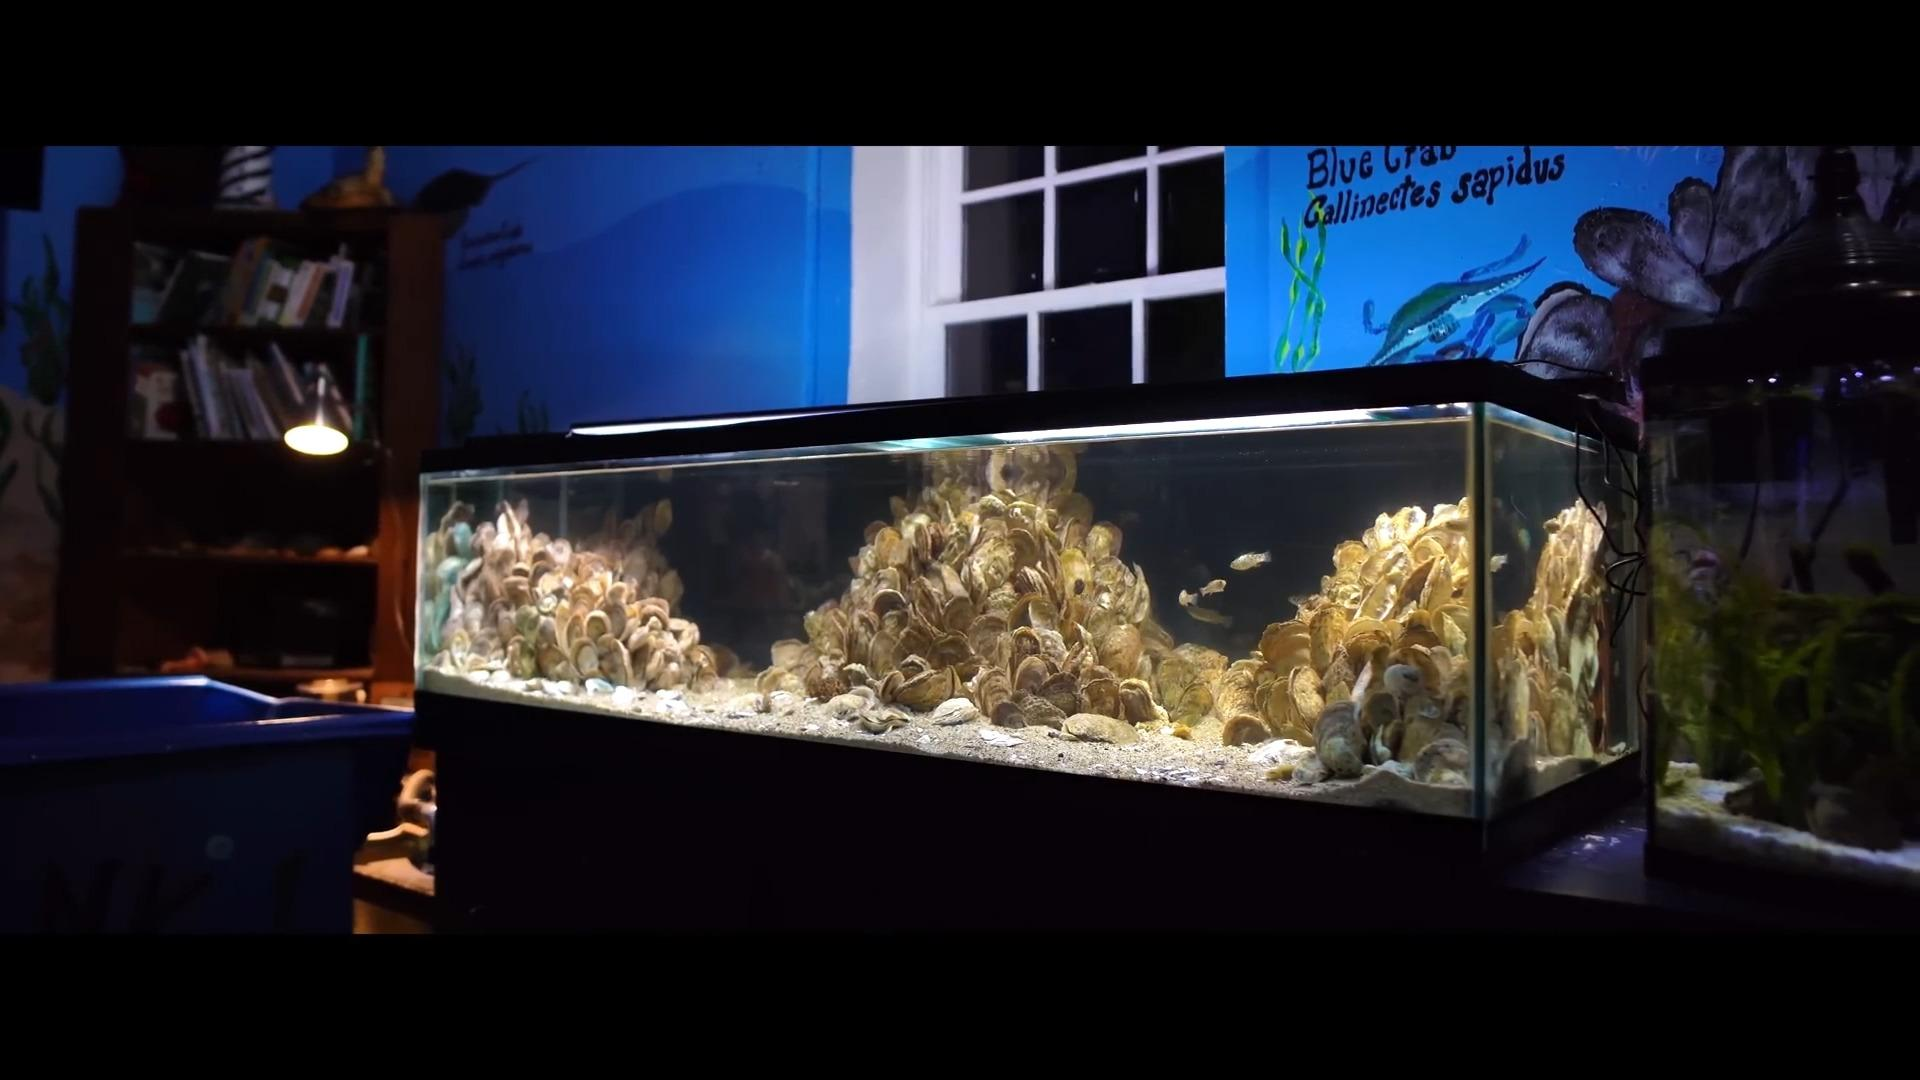Oyster: (1150, 644, 1221, 729), (1313, 702, 1366, 779), (891, 663, 961, 715), (1398, 712, 1461, 767), (971, 533, 1025, 593), (1096, 622, 1145, 686), (1258, 618, 1316, 670), (1059, 711, 1142, 746), (1341, 617, 1398, 667), (1287, 663, 1327, 735), (1395, 555, 1440, 612), (1544, 684, 1580, 756), (1358, 688, 1402, 745), (1077, 667, 1124, 720), (1411, 642, 1457, 692), (1499, 729, 1538, 789), (973, 666, 1014, 721), (1010, 591, 1055, 640), (1034, 673, 1083, 716), (927, 633, 977, 675), (988, 446, 1029, 497), (1089, 558, 1134, 604), (1058, 545, 1093, 603), (1017, 696, 1072, 732), (436, 495, 473, 546), (803, 659, 847, 703), (1118, 679, 1160, 724), (1360, 578, 1400, 624), (803, 605, 840, 655), (597, 640, 634, 688), (1014, 563, 1054, 608), (1221, 713, 1270, 749), (1031, 626, 1071, 670), (769, 640, 815, 674), (1087, 521, 1125, 562), (686, 644, 723, 686), (535, 640, 572, 682), (754, 665, 798, 700), (940, 591, 975, 636), (935, 560, 969, 605), (822, 691, 872, 721), (870, 587, 910, 625), (894, 654, 935, 691), (1427, 500, 1470, 533), (600, 596, 630, 642), (496, 500, 522, 551), (506, 637, 538, 679), (1443, 687, 1472, 732), (513, 603, 542, 646), (583, 608, 615, 645), (721, 692, 767, 717), (572, 641, 601, 680), (1015, 657, 1048, 691), (1526, 708, 1548, 757), (840, 662, 874, 692), (1374, 760, 1419, 781), (857, 711, 894, 735), (447, 628, 471, 655)
